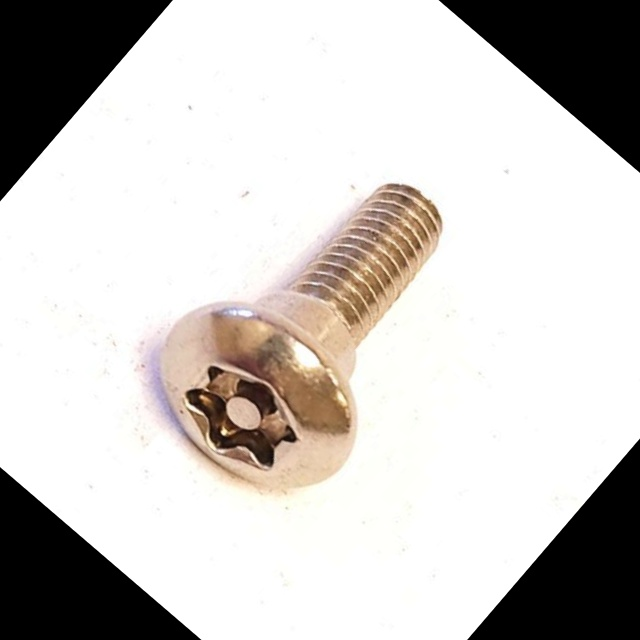torx: (122, 265, 392, 528)
